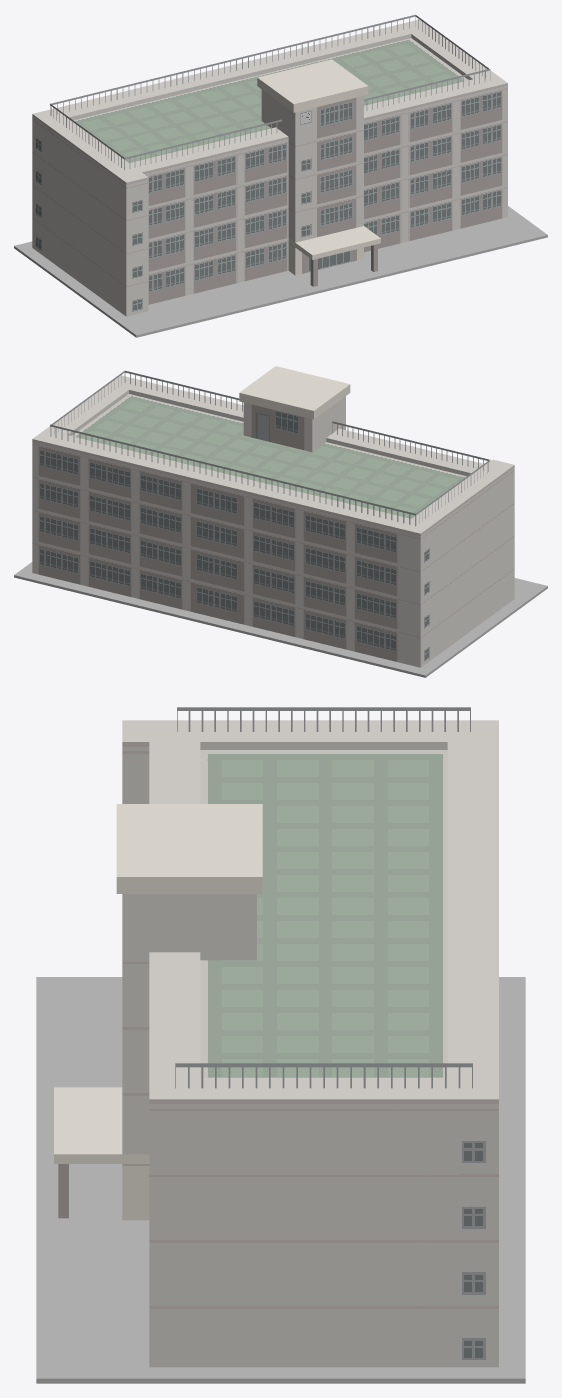
The model's file is 02c1_High_School.glb.
3 renders of one model, top to bottom at view 1: azimuth 30°, elevation 25°; view 2: azimuth 150°, elevation 25°; view 3: azimuth 270°, elevation 25°, orthographic. The views are drawn at different scales.
Parts seen in each view (by area): view 1: part_0; view 2: part_0; view 3: part_0.
Boxes of the visible parts, x1,y1,x2,y2 form: part_0: (14, 14, 547, 337); part_0: (14, 366, 547, 677); part_0: (36, 707, 525, 1383).
Bounding box in the file's own units: 39.43 × 16.07 × 20.31.
1 material, 1 textured.
